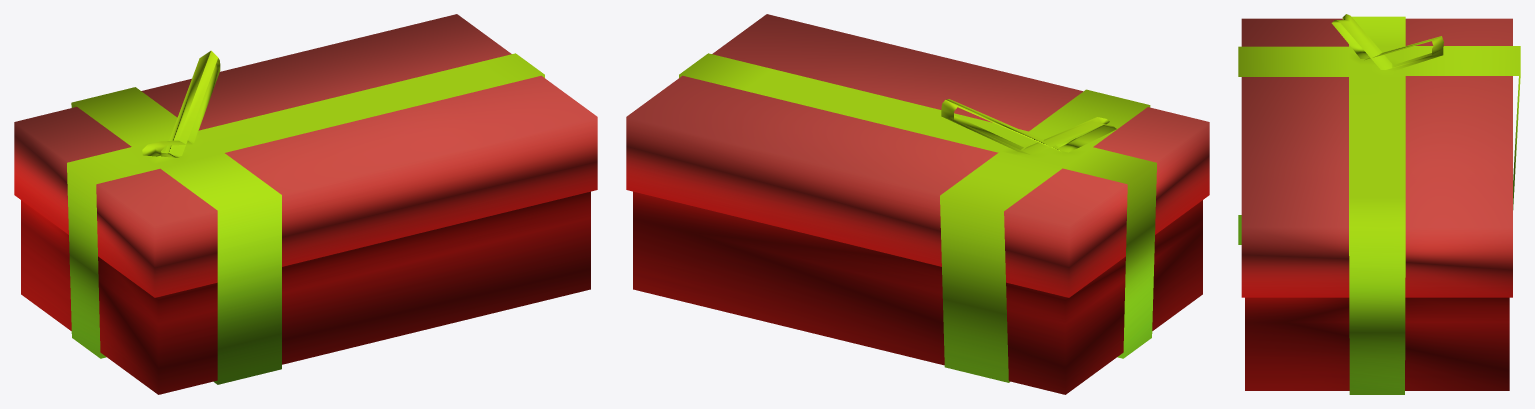
File: Geschenk_3.fbx
3 views of the same model, side by side, from view 1: azimuth 30°, elevation 25°; view 2: azimuth 150°, elevation 25°; view 3: azimuth 270°, elevation 25° (orthographic). The views are drawn at different scales.
Parts seen in each view (by area): view 1: Cube; view 2: Cube; view 3: Cube.
Part boxes in pixels (<box>): Cube: <box>14,14,597,394</box>; Cube: <box>626,14,1209,394</box>; Cube: <box>1238,14,1520,394</box>.
Bounding box in the file's own units: 235 × 117 × 133.
1 material, 1 textured.
